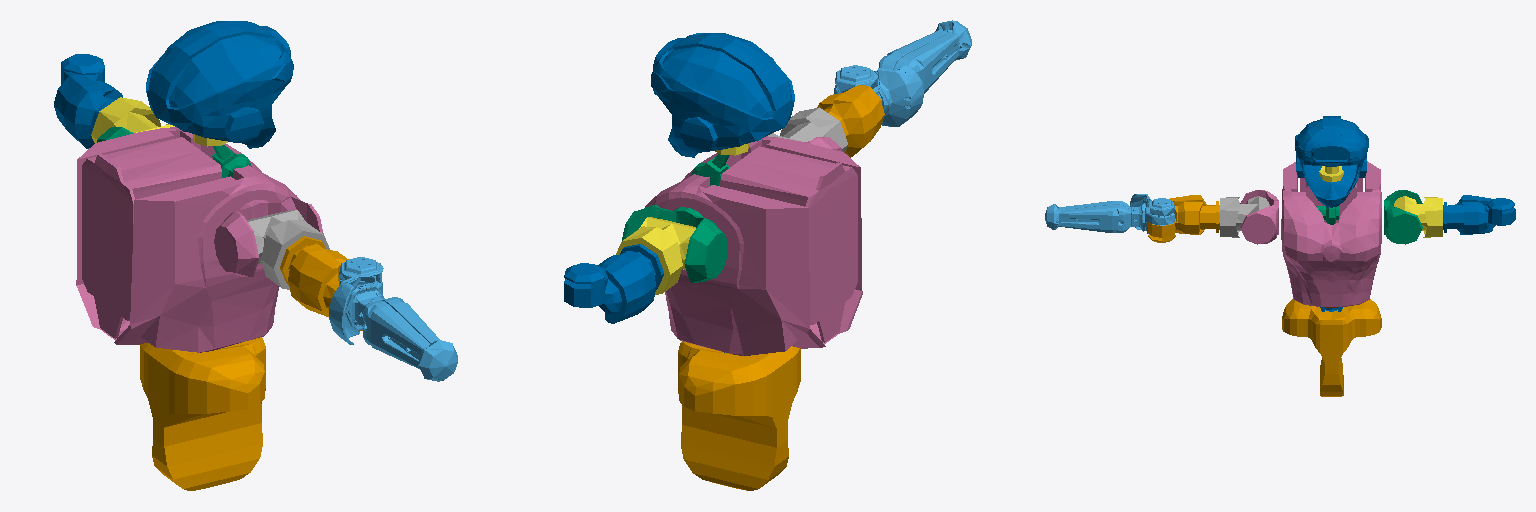
--- Render facts (derived) ---
The picture shows the robot from 3 angles, left to right: view 1: azimuth 30°, elevation 25°; view 2: azimuth 150°, elevation 25°; view 3: azimuth 270°, elevation 25°; orthographic projection.
Robot: valkyrie — 38 links, 37 joints (26 revolute, 11 fixed); root link pelvis; default pose: every joint at zero.
Visible links, largest first — view 1: torso, pelvis, upperNeckPitchLink, rightElbowPitchLink, leftShoulderYawLink, rightShoulderYawLink, rightShoulderPitchLink, rightShoulderRollLink, leftShoulderRollLink, lowerNeckPitchLink; view 2: torso, pelvis, upperNeckPitchLink, rightElbowPitchLink, leftShoulderYawLink, leftShoulderPitchLink, rightShoulderYawLink, leftShoulderRollLink, rightShoulderRollLink, lowerNeckPitchLink; view 3: torso, upperNeckPitchLink, pelvis, rightElbowPitchLink, leftShoulderYawLink, rightShoulderYawLink, leftShoulderPitchLink, rightShoulderPitchLink, rightShoulderRollLink, leftShoulderRollLink.
Link boxes in pixels (x1,y1,x2,y2): torso: (76,127,300,352); pelvis: (140,337,265,490); upperNeckPitchLink: (146,21,293,148); rightElbowPitchLink: (329,257,457,381); leftShoulderYawLink: (54,54,122,148); rightShoulderYawLink: (280,236,362,330); rightShoulderPitchLink: (214,197,323,276); rightShoulderRollLink: (247,210,329,289); leftShoulderRollLink: (91,97,174,142); lowerNeckPitchLink: (212,145,251,177); torso: (645,136,862,355); pelvis: (678,341,800,490); upperNeckPitchLink: (651,33,794,157); rightElbowPitchLink: (834,20,971,126); leftShoulderYawLink: (564,244,663,323); leftShoulderPitchLink: (622,205,727,282); rightShoulderYawLink: (817,85,884,157); leftShoulderRollLink: (616,217,695,294); rightShoulderRollLink: (768,107,847,152); lowerNeckPitchLink: (691,154,729,185); torso: (1281,161,1381,306); upperNeckPitchLink: (1295,116,1368,207); pelvis: (1282,298,1381,396); rightElbowPitchLink: (1045,194,1175,233); leftShoulderYawLink: (1443,195,1515,234); rightShoulderYawLink: (1148,195,1219,242); leftShoulderPitchLink: (1384,190,1422,244); rightShoulderPitchLink: (1240,190,1278,244); rightShoulderRollLink: (1220,196,1269,237); leftShoulderRollLink: (1393,196,1442,237).
Bounding box of the posed robot: 0.4375 × 1.61 × 1.04 m (x, y, z).
Meshes: 23 distinct files referenced, 14 mesh visuals loaded (13 Collada DAE, 1 OBJ); not drawn: 10 (reference not matched to a file when rendering), 1 (file found but could not be loaded).

robot.urdf — valkyrie:
<?xml version="1.0" ?>
<!-- =================================================================================== -->
<!-- |    This document was autogenerated by xacro from /kinematic_analysis/src/val_description/model/robots/valkyrie_B.urdf.xacro | -->
<!-- |    EDITING THIS FILE BY HAND IS NOT RECOMMENDED                                 | -->
<!-- =================================================================================== -->
<robot name="valkyrie">
  <!--roll-->
  <!-- Setting the property for the left and right forearm -->
  <!-- <xacro:property name="leftArmJ5SerialNumber" value="v_g_016" />
        <xacro:property name="leftForearmSerialNumber" value="v_h_005"/> -->
  <!-- <xacro:property name="rightArmJ5SerialNumber" value="v_g_012" />
        <xacro:property name="rightForearmSerialNumber" value="v_h_006"/> -->
  <link name="pelvis">
    <inertial>
      <mass value="8.22"/>
      <origin rpy="0 0 0" xyz="-0.00532 -0.003512 -0.0036"/>
      <inertia ixx="0.11866378" ixy="-0.000143482" ixz="0.003271293" iyy="0.097963425" iyz="0.002159545" izz="0.083854638"/>
    </inertial>
    <visual>
      <geometry>
        <mesh filename="package://val_description/model/meshes/pelvis/pelvis.dae"/>
      </geometry>
      <origin rpy="0.0 0.0 0.0" xyz="0.0 0.0 0.0"/>
    </visual>
    <collision>
      <geometry>
        <mesh filename="package://val_description/model/meshes/pelvis/pelvis.dae"/>
      </geometry>
      <origin rpy="0 0 0" xyz="0 0 0"/>
    </collision>
  </link>
  <link name="pelvisRearImu_Frame">
    <!-- Virtual Link -->
    <inertial>
      <mass value="1e-07"/>
      <origin rpy="0 0 0" xyz="0 0 0"/>
      <inertia ixx="3.3333333333333322e-22" ixy="0.0" ixz="0.0" iyy="3.3333333333333322e-22" iyz="0.0" izz="4.999999999999999e-22"/>
    </inertial>
  </link>
  <joint name="pelvisRearImu_Offset" type="fixed">
    <origin rpy="-3.14159 0.476467 -3.14159" xyz="-0.075844901 0.0 -0.111056426"/>
    <axis xyz="0 0 1"/>
    <parent link="pelvis"/>
    <child link="pelvisRearImu_Frame"/>
  </joint>
  <gazebo reference="pelvisRearImu_Offset">
    <implicitSpringDamper>1</implicitSpringDamper>
  </gazebo>
  <gazebo>
    <plugin filename="libgazebo_ros_imu.so" name="imu_plugin_ros">
      <alwaysOn>true</alwaysOn>
      <bodyName>pelvisRearImu_Frame</bodyName>
      <topicName>pelvisRearImu/imu</topicName>
      <serviceName>pelvisRearImu/imu_service</serviceName>
      <gaussianNoise>0.0</gaussianNoise>
      <updateRate>1000.0</updateRate>
    </plugin>
  </gazebo>
  <gazebo reference="pelvisRearImu_Frame">
    <sensor name="pelvisRearImu" type="imu">
      <imuTransform>-0.075844901 0.0 -0.111056426 -3.14159 0.476467 -3.14159</imuTransform>
      <always_on>true</always_on>
      <pose>0 0 0 0 0 0 </pose>
      <node name="/sensors/rearPelvisIMU"/>
      <api name="imu_3dm_gx4_15_sensor::Imu3DmGx415Sensor"/>
      <port name="/dev/ttyS4"/>
      <imu>
        <noise>
          <type>gaussian</type>
          <rate>
            <mean>0</mean>
            <stddev>0.0002</stddev>
            <bias_mean>7.5e-06</bias_mean>
            <bias_stddev>8e-07</bias_stddev>
          </rate>
          <accel>
            <mean>0</mean>
            <stddev>0.017</stddev>
            <bias_mean>0.1</bias_mean>
            <bias_stddev>0.001</bias_stddev>
          </accel>
        </noise>
      </imu>
    </sensor>
  </gazebo>
  <link name="pelvisMiddleImu_Frame">
    <!-- Virtual Link -->
    <inertial>
      <mass value="1e-07"/>
      <origin rpy="0 0 0" xyz="0 0 0"/>
      <inertia ixx="3.3333333333333322e-22" ixy="0.0" ixz="0.0" iyy="3.3333333333333322e-22" iyz="0.0" izz="4.999999999999999e-22"/>
    </inertial>
  </link>
  <joint name="pelvisMiddleImu_Offset" type="fixed">
    <origin rpy="3.14159 0.0 0.0" xyz="0.0 0.0 -0.10819638"/>
    <axis xyz="0 0 1"/>
    <parent link="pelvis"/>
    <child link="pelvisMiddleImu_Frame"/>
  </joint>
  <gazebo reference="pelvisMiddleImu_Offset">
    <implicitSpringDamper>1</implicitSpringDamper>
  </gazebo>
  <gazebo>
    <plugin filename="libgazebo_ros_imu.so" name="imu_plugin_ros">
      <alwaysOn>true</alwaysOn>
      <bodyName>pelvisMiddleImu_Frame</bodyName>
      <topicName>pelvisMiddleImu/imu</topicName>
      <serviceName>pelvisMiddleImu/imu_service</serviceName>
      <gaussianNoise>0.0</gaussianNoise>
      <updateRate>500.0</updateRate>
    </plugin>
  </gazebo>
  <gazebo reference="pelvisMiddleImu_Frame">
    <sensor name="pelvisMiddleImu" type="imu">
      <imuTransform>0.0 0.0 -0.10819638 3.14159 0.0 0.0</imuTransform>
      <always_on>true</always_on>
      <pose>0 0 0 0 0 0 </pose>
      <imu>
        <noise>
          <type>gaussian</type>
          <rate>
            <mean>0</mean>
            <stddev>0.0002</stddev>
            <bias_mean>7.5e-06</bias_mean>
            <bias_stddev>8e-07</bias_stddev>
          </rate>
          <accel>
            <mean>0</mean>
            <stddev>0.017</stddev>
            <bias_mean>0.1</bias_mean>
            <bias_stddev>0.001</bias_stddev>
          </accel>
        </noise>
      </imu>
    </sensor>
  </gazebo>
  <link name="zedm_mount">
    <!-- Virtual Link -->
    <inertial>
      <mass value="1e-07"/>
      <origin rpy="0 0 0" xyz="0 0 0"/>
      <inertia ixx="3.3333333333333322e-22" ixy="0.0" ixz="0.0" iyy="3.3333333333333322e-22" iyz="0.0" izz="4.999999999999999e-22"/>
    </inertial>
  </link>
  <joint name="zedm_head_root_joint" type="fixed">
    <origin rpy="0.0 0.1309 0.0" xyz="0.192184 0.0 -0.096498"/>
    <axis xyz="0 0 1"/>
    <parent link="upperNeckPitchLink"/>
    <child link="zedm_mount"/>
  </joint>
  <gazebo reference="zedm_head_root_joint">
    <implicitSpringDamper>1</implicitSpringDamper>
  </gazebo>
  <link name="torsoYawLink">
    <inertial>
      <mass value="0.5"/>
      <origin rpy="0 0 0" xyz="0.000000 0.000000 -0.010000"/>
      <inertia ixx="0.000608427" ixy="-1.172e-06" ixz="1.647e-06" iyy="0.000620328" iyz="-2.33e-07" izz="0.001078108"/>
    </inertial>
    <visual>
      <geometry>
        <mesh filename="package://val_description/model/meshes/torso/torsoyaw.dae"/>
      </geometry>
      <origin rpy="0.0 0.0 0.0" xyz="0.0 0.0 0.0"/>
    </visual>
    <collision>
      <geometry>
        <mesh filename="package://val_description/model/meshes/torso/torsoyaw.dae"/>
      </geometry>
      <origin rpy="0 0 0" xyz="0 0 0"/>
    </collision>
  </link>
  <link name="torsoPitchLink">
    <inertial>
      <mass value="0.1"/>
      <origin rpy="0 0 0" xyz="0.000000 0.000000  0.005000"/>
      <inertia ixx="3.032e-05" ixy="0.0" ixz="-1.145e-06" iyy="2.1274e-05" iyz="0.0" izz="2.8285e-05"/>
    </inertial>
    <visual>
      <geometry>
        <mesh filename="package://val_description/model/meshes/torso/torsopitch.dae"/>
      </geometry>
      <origin rpy="0.0 0.0 0.0" xyz="0.0 0.0 0.0"/>
    </visual>
    <collision>
      <geometry>
        <mesh filename="package://val_description/model/meshes/torso/torsopitch.dae"/>
      </geometry>
      <origin rpy="0 0 0" xyz="0 0 0"/>
    </collision>
  </link>
  <link name="torso">
    <inertial>
      <mass value="30.87"/>
      <origin rpy="0 0 0" xyz="-0.095548 -0.003337 0.243098"/>
      <inertia ixx="0.858969" ixy="9.9563e-05" ixz="0.061345211" iyy="0.99655" iyz="0.00181849" izz="0.764098"/>
    </inertial>
    <visual>
      <geometry>
        <mesh filename="package://val_description/model/meshes/torso/torso.dae"/>
      </geometry>
      <origin rpy="0.0 0.0 0.0" xyz="0.0 0.0 0.0"/>
    </visual>
    <collision>
      <geometry>
        <mesh filename="package://val_description/model/meshes/torso/torso.dae"/>
      </geometry>
      <origin rpy="0 0 0" xyz="0 0 0"/>
    </collision>
  </link>
  <joint name="torsoYaw" type="revolute">
    <origin rpy="0.0 0.0 0.0" xyz="0.0 0.0 0.0"/>
    <axis xyz="0 0 1"/>
    <parent link="pelvis"/>
    <child link="torsoYawLink"/>
    <limit effort="190" lower="-1.329" upper="1.181" velocity="5.89"/>
    <controller_gains Kd="0.0" Ki="0.0" Kp="0.0"/>
    <dynamics damping="0.1" friction="0.0"/>
  </joint>
  <gazebo reference="torsoYaw">
    <provideFeedback>1</provideFeedback>
    <implicitSpringDamper>1</implicitSpringDamper>
  </gazebo>
  <joint name="torsoPitch" type="revolute">
    <origin rpy="0.0 0.0 0.0" xyz="0.04191 0.0 0.0"/>
    <axis xyz="0 1 0"/>
    <parent link="torsoYawLink"/>
    <child link="torsoPitchLink"/>
    <limit effort="150" lower="-0.13" upper="0.666" velocity="9"/>
    <controller_gains Kd="0.0" Ki="0.0" Kp="0.0"/>
    <dynamics damping="0.1" friction="0.0"/>
  </joint>
  <gazebo reference="torsoPitch">
    <provideFeedback>1</provideFeedback>
    <implicitSpringDamper>1</implicitSpringDamper>
  </gazebo>
  <joint name="torsoRoll" type="revolute">
    <origin rpy="0.0 0.0 0.0" xyz="0.0 0.0 0.0203"/>
    <axis xyz="1 0 0"/>
    <parent link="torsoPitchLink"/>
    <child link="torso"/>
    <limit effort="150" lower="-0.23" upper="0.255" velocity="9"/>
    <controller_gains Kd="0.0" Ki="0.0" Kp="0.0"/>
    <dynamics damping="0.1" friction="0.0"/>
  </joint>
  <gazebo reference="torsoRoll">
    <provideFeedback>1</provideFeedback>
    <implicitSpringDamper>1</implicitSpringDamper>
  </gazebo>
  <transmission name="torsoYawTransmission">
    <type>transmission_interface/SimpleTransmission</type>
    <joint name="torsoYaw">
      <hardwareInterface>EffortJointInterface</hardwareInterface>
    </joint>
    <actuator name="torsoYaw">
      <node name="/pelvis/waist"/>
      <mechanicalReduction>1</mechanicalReduction>
      <api name="robot_hardware_interface/TurbodriverAPI"/>
    </actuator>
  </transmission>
  <transmission name="waistTransmission">
    <type>robot_transmission_interface::TorsoPushrodTransmissionLoader</type>
    <joint name="torsoPitch">
      <role>pitch</role>
      <hardwareInterface>EffortJointInterface</hardwareInterface>
    </joint>
    <joint name="torsoRoll">
      <role>roll</role>
      <hardwareInterface>EffortJointInterface</hardwareInterface>
    </joint>
    <actuator name="waistRightActuator">
      <node name="/trunk/right_actuator"/>
      <role>right</role>
      <mechanicalReduction>1</mechanicalReduction>
      <api name="robot_hardware_interface/TurbodriverAPI_linear_Renishaw"/>
    </actuator>
    <actuator name="waistLeftActuator">
      <node name="/trunk/left_actuator"/>
      <role>left</role>
      <mechanicalReduction>1</mechanicalReduction>
      <api name="robot_hardware_interface/TurbodriverAPI_linear_Renishaw"/>
    </actuator>
  </transmission>
  <link name="leftTorsoImu_Frame">
    <!-- Virtual Link -->
    <inertial>
      <mass value="1e-07"/>
      <origin rpy="0 0 0" xyz="0 0 0"/>
      <inertia ixx="3.3333333333333322e-22" ixy="0.0" ixz="0.0" iyy="3.3333333333333322e-22" iyz="0.0" izz="4.999999999999999e-22"/>
    </inertial>
  </link>
  <joint name="leftTorsoImu_Offset" type="fixed">
    <origin rpy="-1.5707 0.0 0.0" xyz="-0.0627634 0.134239 0.3630676"/>
    <axis xyz="0 0 1"/>
    <parent link="torso"/>
    <child link="leftTorsoImu_Frame"/>
  </joint>
  <gazebo reference="leftTorsoImu_Offset">
    <implicitSpringDamper>1</implicitSpringDamper>
  </gazebo>
  <gazebo>
    <plugin filename="libgazebo_ros_imu.so" name="imu_plugin_ros">
      <alwaysOn>true</alwaysOn>
      <bodyName>leftTorsoImu_Frame</bodyName>
      <topicName>leftTorsoImu/imu</topicName>
      <serviceName>leftTorsoImu/imu_service</serviceName>
      <gaussianNoise>0.0</gaussianNoise>
      <updateRate>1000.0</updateRate>
    </plugin>
  </gazebo>
  <gazebo reference="leftTorsoImu_Frame">
    <sensor name="leftTorsoImu" type="imu">
      <imuTransform>-0.0627634 0.134239 0.3630676 -1.5707 0.0 0.0</imuTransform>
      <always_on>true</always_on>
      <pose>0 0 0 0 0 0 </pose>
      <node name="/sensors/leftTorsoIMU"/>
      <api name="imu_3dm_gx4_15_sensor::Imu3DmGx415Sensor"/>
      <port name="/dev/ttyS5"/>
      <imu>
        <noise>
          <type>gaussian</type>
          <rate>
            <mean>0</mean>
            <stddev>0.0002</stddev>
            <bias_mean>7.5e-06</bias_mean>
            <bias_stddev>8e-07</bias_stddev>
          </rate>
          <accel>
            <mean>0</mean>
            <stddev>0.017</stddev>
            <bias_mean>0.1</bias_mean>
            <bias_stddev>0.001</bias_stddev>
          </accel>
        </noise>
      </imu>
    </sensor>
  </gazebo>
  <link name="rightHazardCamera_Frame">
    <!-- Virtual Link -->
    <inertial>
      <mass value="1e-07"/>
      <origin rpy="0 0 0" xyz="0 0 0"/>
      <inertia ixx="3.3333333333333322e-22" ixy="0.0" ixz="0.0" iyy="3.3333333333333322e-22" iyz="0.0" izz="4.999999999999999e-22"/>
    </inertial>
  </link>
  <gazebo reference="rightHazardCamera_Frame">
    <sensor name="rightHazardCamera" type="camera">
      <camera>
        <image>
          <width>1280</width>
          <height>1024</height>
          <format>R8G8B8</format>
        </image>
        <horizontal_fov>1.378</horizontal_fov>
        <clip>
          <near>0.1</near>
          <far>100</far>
        </clip>
      </camera>
      <update_rate>60</update_rate>
    </sensor>
  </gazebo>
  <joint name="rightHazardCamera_Offset" type="fixed">
    <origin rpy="1.57 0.0 1.57" xyz="0.0345 -0.0406 0.1135"/>
    <axis xyz="0 0 1"/>
    <parent link="torso"/>
    <child link="rightHazardCamera_Frame"/>
  </joint>
  <gazebo reference="rightHazardCamera_Offset">
    <implicitSpringDamper>1</implicitSpringDamper>
  </gazebo>
  <link name="leftHazardCamera_Frame">
    <!-- Virtual Link -->
    <inertial>
      <mass value="1e-07"/>
      <origin rpy="0 0 0" xyz="0 0 0"/>
      <inertia ixx="3.3333333333333322e-22" ixy="0.0" ixz="0.0" iyy="3.3333333333333322e-22" iyz="0.0" izz="4.999999999999999e-22"/>
    </inertial>
  </link>
  <gazebo reference="leftHazardCamera_Frame">
    <sensor name="leftHazardCamera" type="camera">
      <camera>
        <image>
          <width>1280</width>
          <height>1024</height>
          <format>R8G8B8</format>
        </image>
        <horizontal_fov>1.378</horizontal_fov>
        <clip>
          <near>0.1</near>
          <far>100</far>
        </clip>
      </camera>
      <update_rate>60</update_rate>
    </sensor>
  </gazebo>
  <joint name="leftHazardCamera_Offset" type="fixed">
    <origin rpy="1.57 0.0 1.57" xyz="0.0345 0.0406 0.1135"/>
    <axis xyz="0 0 1"/>
    <parent link="torso"/>
    <child link="leftHazardCamera_Frame"/>
  </joint>
  <gazebo reference="leftHazardCamera_Offset">
    <implicitSpringDamper>1</implicitSpringDamper>
  </gazebo>
  <link name="lowerNeckPitchLink">
    <inertial>
      <mass value="1.05"/>
      <origin rpy="0 0 0" xyz="-0.020000 0.000000  0.040000"/>
      <inertia ixx="0.001470716" ixy="-0.000126021" ixz="0.000632521" iyy="0.001851919" iyz="0.000243012" izz="0.000832117"/>
    </inertial>
    <visual>
      <geometry>
        <mesh filename="package://val_description/model/meshes/head/neckj1.dae"/>
      </geometry>
      <origin rpy="0.0 0.0 0.0" xyz="0.0 0.0 0.0"/>
    </visual>
    <collision>
      <geometry>
        <mesh filename="package://val_description/model/meshes/head/neckj1.dae"/>
      </geometry>
      <origin rpy="0 0 0" xyz="0 0 0"/>
    </collision>
  </link>
  <link name="neckYawLink">
    <inertial>
      <mass value="1.4"/>
      <origin rpy="0 0 0" xyz="-0.030000  -0.010000 0.150000"/>
      <inertia ixx="0.001997698" ixy="-0.000180062" ixz="0.000723677" iyy="0.002919928" iyz="0.000246467" izz="0.002119751"/>
    </inertial>
    <visual>
      <geometry>
        <mesh filename="package://val_description/model/meshes/head/neckj2.dae"/>
      </geometry>
      <origin rpy="0.0 0.0 0.0" xyz="0.0 0.0 0.0"/>
    </visual>
    <collision>
      <geometry>
        <mesh filename="package://val_description/model/meshes/head/neckj2.dae"/>
      </geometry>
      <origin rpy="0 0 0" xyz="0 0 0"/>
    </collision>
  </link>
  <link name="upperNeckPitchLink">
    <inertial>
      <mass value="3.89"/>
      <origin rpy="0 0 0" xyz="0.100912 0.005783 0.034787"/>
      <inertia ixx="0.039847525" ixy="-0.000470418" ixz="-0.002829842" iyy="0.041418564" iyz="-0.000782564" izz="0.036841236"/>
    </inertial>
    <visual>
      <geometry>
        <mesh filename="package://val_description/model/meshes/head/head_multisense_no_visor.dae"/>
      </geometry>
      <origin rpy="0.0 0.0 0.0" xyz="0.0 0.0 0.0"/>
    </visual>
    <collision>
      <geometry>
        <mesh filename="package://val_description/model/meshes/head/head_multisense_no_visor.dae"/>
      </geometry>
      <origin rpy="0 0 0" xyz="0 0 0"/>
    </collision>
  </link>
  <joint name="lowerNeckPitch" type="revolute">
    <origin rpy="0.0 0.0 0.0" xyz="0.0203518 0.0 0.33845"/>
    <axis xyz="0 1 0"/>
    <parent link="torso"/>
    <child link="lowerNeckPitchLink"/>
    <limit effort="26" lower="0" upper="1.162" velocity="5"/>
    <controller_gains Kd="3" Ki="3" Kp="50"/>
    <dynamics damping="0.1" friction="0.0"/>
  </joint>
  <gazebo reference="lowerNeckPitch">
    <provideFeedback>1</provideFeedback>
    <implicitSpringDamper>1</implicitSpringDamper>
  </gazebo>
  <joint name="neckYaw" type="revolute">
    <origin rpy="0.0 0.0 0.0" xyz="-0.051924 0.0 0.0"/>
    <axis xyz="0 0 1"/>
    <parent link="lowerNeckPitchLink"/>
    <child link="neckYawLink"/>
    <limit effort="26" lower="-1.04719755" upper="1.04719755" velocity="5"/>
    <controller_gains Kd="3" Ki="0.0" Kp="50"/>
    <dynamics damping="0.1" friction="0.0"/>
  </joint>
  <gazebo reference="neckYaw">
    <provideFeedback>1</provideFeedback>
    <implicitSpringDamper>1</implicitSpringDamper>
  </gazebo>
  <joint name="upperNeckPitch" type="revolute">
    <origin rpy="0.0 0.0 0.0" xyz="-0.06 0 0.195997"/>
    <axis xyz="0 1 0"/>
    <parent link="neckYawLink"/>
    <child link="upperNeckPitchLink"/>
    <limit effort="26" lower="-0.872" upper="0.0" velocity="5"/>
    <controller_gains Kd="3" Ki="0.0" Kp="50"/>
    <dynamics damping="0.1" friction="0.0"/>
  </joint>
  <gazebo reference="upperNeckPitch">
    <provideFeedback>1</provideFeedback>
    <implicitSpringDamper>1</implicitSpringDamper>
  </gazebo>
  <link name="multisense/head">
    <!-- Virtual Link -->
    <inertial>
      <mass value="1e-07"/>
      <origin rpy="0 0 0" xyz="0 0 0"/>
      <inertia ixx="3.3333333333333322e-22" ixy="0.0" ixz="0.0" iyy="3.3333333333333322e-22" iyz="0.0" izz="4.999999999999999e-22"/>
    </inertial>
  </link>
  <joint name="multisense_head_root_joint" type="fixed">
    <origin rpy="-3.14159 0.130899694 0.0" xyz="0.183585961 0.0 0.075353826"/>
    <axis xyz="0 0 1"/>
    <parent link="upperNeckPitchLink"/>
    <child link="multisense/head"/>
  </joint>
  <gazebo reference="multisense_head_root_joint">
    <implicitSpringDamper>1</implicitSpringDamper>
  </gazebo>
  <transmission name="lowerNeckPitchTransmission">
    <type>transmission_interface/SimpleTransmission</type>
    <joint name="lowerNeckPitch">
      <hardwareInterface>PositionJointInterface</hardwareInterface>
    </joint>
    <actuator name="lowerNeckPitch">
      <node name="/neck/j1"/>
      <mechanicalReduction>1</mechanicalReduction>
      <api name="robot_hardware_interface/TurbodriverAPI"/>
    </actuator>
  </transmission>
  <transmission name="neckYawTransmission">
    <type>transmission_interface/SimpleTransmission</type>
    <joint name="neckYaw">
      <hardwareInterface>PositionJointInterface</hardwareInterface>
    </joint>
    <actuator name="neckYaw">
      <node name="/neck/j2"/>
      <mechanicalReduction>1</mechanicalReduction>
      <api name="robot_hardware_interface/TurbodriverAPI"/>
    </actuator>
  </transmission>
  <transmission name="upperNeckPitchTransmission">
    <type>transmission_interface/SimpleTransmission</type>
    <joint name="upperNeckPitch">
      <hardwareInterface>PositionJointInterface</hardwareInterface>
    </joint>
    <actuator name="upperNeckPitch">
      <node name="/neck/j3"/>
      <mechanicalReduction>1</mechanicalReduction>
      <api name="robot_hardware_interface/TurbodriverAPI"/>
    </actuator>
  </transmission>
  <link name="rightHipYawLink">
    <inertial>
      <mass value="2.39"/>
      <origin rpy="0 0 0" xyz="0.02176 0.00131 0.03867"/>
      <inertia ixx="0.017260978" ixy="0.0" ixz="0.0" iyy="0.014866198" iyz="0.0" izz="0.011238178"/>
    </inertial>
    <visual>
      <geometry>
        <mesh filename="package://val_description/model/meshes/legs/lj1_right.dae"/>
      </geometry>
      <origin rpy="0.0 0.0 0.0" xyz="0.0 0.0 0.0"/>
    </visual>
    <collision>
      <geometry>
        <mesh filename="package://val_description/model/meshes/legs/lj1_right.dae"/>
      </geometry>
      <origin rpy="0 0 0" xyz="0 0 0"/>
    </collision>
  </link>
  <link name="rightHipRollLink">
    <inertial>
      <mass value="3.665"/>
      <origin rpy="0 0 0" xyz="0.012959 -0.00755 -0.015950"/>
      <inertia ixx="0.005978962" ixy="0.000234823" ixz="0.000553962" iyy="0.009372646" iyz="-0.000778956" izz="0.008193117"/>
    </inertial>
  </link>
  <link name="rightHipPitchLink">
    <inertial>
      <mass value="10.2"/>
      <origin rpy="0 0 0" xyz="0.016691 -0.091397 -0.207875"/>
      <inertia ixx="0.24083413" ixy="-3.5915e-05" ixz="0.003699383" iyy="0.25689705" iyz="0.001333005" izz="0.023276352"/>
    </inertial>
    <visual>
      <geometry>
        <mesh filename="package://val_description/model/meshes/legs/lj3_right.dae"/>
      </geometry>
      <origin rpy="0.0 0.0 0.0" xyz="0.0 0.0 0.0"/>
    </visual>
    <collision>
      <geometry>
        <mesh filename="package://val_description/model/meshes/legs/lj3_right.dae"/>
      </geometry>
      <origin rpy="0 0 0" xyz="0 0 0"/>
    </collision>
  </link>
  <link name="rightKneePitchLink">
    <inertial>
      <mass value="6.2"/>
      <origin rpy="0 0 0" xyz="-0.022183  0.001703  -0.189418"/>
      <inertia ixx="0.086935683" ixy="9.929e-05" ixz="0.000573207" iyy="0.091584066" iyz="0.000313745" izz="0.014017272"/>
    </inertial>
    <visual>
      <geometry>
        <mesh filename="package://val_description/model/meshes/legs/lj4_right.dae"/>
      </geometry>
      <origin rpy="0.0 0.0 0.0" xyz="0.0 0.0 0.0"/>
    </visual>
    <collision>
      <geometry>
        <mesh filename="package://val_description/model/meshes/legs/lj4_right.dae"/>
      </geometry>
      <origin rpy="0 0 0" xyz="0 0 0"/>
    </collision>
  </link>
  <link name="rightAnklePitchLink">
    <inertial>
      <mass value="0.03"/>
      <origin rpy="0 0 0" xyz="0.0 0.0 0.0"/>
      <inertia ixx="4.377e-06" ixy="0.0" ixz="0.0" iyy="4.322e-06" iyz="0.0" izz="7.015e-06"/>
    </inertial>
    <visual>
      <geometry>
        <mesh filename="package://val_description/model/meshes/legs/lj5.dae"/>
      </geometry>
      <origin rpy="0.0 0.0 0.0" xyz="0.0 0.0 0.0"/>
    </visual>
    <collision>
      <geometry>
        <mesh filename="package://val_description/model/meshes/legs/lj5.dae"/>
      </geometry>
      <origin rpy="0 0 0" xyz="0 0 0"/>
    </collision>
  </link>
  <link name="rightFoot">
    <inertial>
      <mass value="2.27"/>
      <origin rpy="0 0 0" xyz="0.037702  0.005161  -0.047634"/>
      <inertia ixx="0.00623936" ixy="0.000217174" ixz="0.001340587" iyy="0.017786991" iyz="-0.000187749" izz="0.020774433"/>
    </inertial>
    <visual>
      <geometry>
        <mesh filename="package://val_description/model/meshes/legs/foot.dae"/>
      </geometry>
      <origin rpy="0 0 0" xyz="0 0 0"/>
    </visual>
    <collision>
      <geometry>
        <box size="0.27 0.16 0.064"/>
      </geometry>
      <origin rpy="0.0 0.0 0.0" xyz="0.045 0.0 -0.056"/>
    </collision>
  </link>
  <!-- foot contact parameters copied from atlas_description in drcsim -->
  <gazebo reference="rightFoot">
    <!-- kp and kd for rubber -->
    <kp>1000000.0</kp>
    <kd>100.0</kd>
    <mu1>1.5</mu1>
    <mu2>1.5</mu2>
    <fdir1>1 0 0</fdir1>
    <maxVel>1.0</maxVel>
    <minDepth>0.00</minDepth>
  </gazebo>
  <joint name="rightHipYaw" type="revolute">
    <origin rpy="0.0 0.0 0.0" xyz="0.0 -0.1016 -0.1853"/>
    <axis xyz="0 0 1"/>
    <parent link="pelvis"/>
    <child link="rightHipYawLink"/>
    <limit effort="190" lower="-1.10" upper="0.4141" velocity="5.89"/>
    <controller_gains Kd="0.0" Ki="0.0" Kp="0.0"/>
    <dynamics damping="0.1" friction="0.0"/>
  </joint>
  <gazebo reference="rightHipYaw">
    <provideFeedback>1</provideFeedback>
    <implicitSpringDamper>1</implicitSpringDamper>
  </gazebo>
  <joint name="rightHipRoll" type="revolute">
    <origin rpy="0.0 0.0 0.0" xyz="0.0 0.0 0.0"/>
    <axis xyz="1 0 0"/>
    <parent link="rightHipYawLink"/>
    <child link="rightHipRollLink"/>
    <limit effort="350" lower="-0.5515" upper="0.467" velocity="7"/>
    <controller_gains Kd="0.0" Ki="0.0" Kp="0.0"/>
    <dynamics damping="0.1" friction="0.0"/>
  </joint>
  <gazebo reference="rightHipRoll">
    <provideFeedback>1</provideFeedback>
    <implicitSpringDamper>1</implicitSpringDamper>
  </gazebo>
  <joint name="rightHipPitch" type="revolute">
    <origin rpy="0.0 0.0 0.0" xyz="0.0 0.0 -0.0609"/>
    <axis xyz="0 1 0"/>
    <parent link="rightHipRollLink"/>
    <child link="rightHipPitchLink"/>
    <limit effort="350" lower="-2.42" upper="1.619" velocity="6.11"/>
    <controller_gains Kd="0.0" Ki="0.0" Kp="0.0"/>
    <dynamics damping="0.1" friction="0.0"/>
  </joint>
  <gazebo reference="rightHipPitch">
    <provideFeedback>1</provideFeedback>
    <implicitSpringDamper>1</implicitSpringDamper>
  </gazebo>
  <joint name="rightKneePitch" type="revolute">
    <origin rpy="0.0 0.0 0.0" xyz="0.000112225 -0.0361046 -0.430959"/>
    <axis xyz="0 1 0"/>
    <parent link="rightHipPitchLink"/>
    <child link="rightKneePitchLink"/>
    <limit effort="350" lower="-0.083" upper="2.057" velocity="6.11"/>
    <controller_gains Kd="0.0" Ki="0.0" Kp="0.0"/>
    <dynamics damping="0.1" friction="0.0"/>
  </joint>
  <gazebo reference="rightKneePitch">
    <provideFeedback>1</provideFeedback>
    <implicitSpringDamper>1</implicitSpringDamper>
  </gazebo>
  <joint name="rightAnklePitch" type="revolute">
    <origin rpy="0.0 0.0 0.0" xyz="-0.0102381 0.0 -0.40627"/>
    <axis xyz="0 1 0"/>
    <parent link="rightKneePitchLink"/>
    <child link="rightAnklePitchLink"/>
    <limit effort="205" lower="-0.8644" upper="0.875" velocity="11"/>
    <controller_gains Kd="0.0" Ki="0.0" Kp="0.0"/>
    <dynamics damping="0.1" friction="0.0"/>
  </joint>
  <gazebo reference="rightAnklePitch">
    <provideFeedback>1</provideFeedback>
    <implicitSpringDamper>1</implicitSpringDamper>
  </gazebo>
  <joint name="rightAnkleRoll" type="revolute">
    <origin rpy="0.0 0.0 0.0" xyz="0.0101259 0.0 0.0"/>
    <axis xyz="1 0 0"/>
    <parent link="rightAnklePitchLink"/>
    <child link="rightFoot"/>
    <limit effort="205" lower="-0.349" upper="0.348" velocity="11"/>
    <controller_gains Kd="0.0" Ki="0.0" Kp="0.0"/>
    <dynamics damping="0.3" friction="0.0"/>
  </joint>
  <gazebo reference="rightAnkleRoll">
    <provideFeedback>1</provideFeedback>
    <implicitSpringDamper>1</implicitSpringDamper>
  </gazebo>
  <link name="rightCOP_Frame">
    <inertial>
      <mass value="0.1"/>
      <origin rpy="0 0 0" xyz="0 0 0"/>
      <inertia ixx="8.333333333333336e-05" ixy="0.0" ixz="0.0" iyy="8.333333333333336e-05" iyz="0.0" izz="0.00012500000000000003"/>
    </inertial>
  </link>
  <joint name="rightCOP_Offset" type="fixed">
    <origin rpy="0.0 0.0 0.0" xyz="0.0189 0.0 -0.0783"/>
    <axis xyz="0 0 1"/>
    <parent link="rightFoot"/>
    <child link="rightCOP_Frame"/>
  </joint>
  <gazebo reference="rightCOP_Offset">
    <implicitSpringDamper>1</implicitSpringDamper>
  </gazebo>
  <link name="rightFootSixAxis_Frame">
    <!-- Virtual Link -->
    <inertial>
      <mass value="1e-07"/>
      <origin rpy="0 0 0" xyz="0 0 0"/>
      <inertia ixx="3.3333333333333322e-22" ixy="0.0" ixz="0.0" iyy="3.3333333333333322e-22" iyz="0.0" izz="4.999999999999999e-22"/>
    </inertial>
  </link>
  <joint name="rightFootSixAxis_Offset" type="fixed">
    <origin rpy="3.14 0.0 0.0" xyz="0.0215646 0.0 -0.051054"/>
    <axis xyz="0 0 1"/>
    <parent link="rightFoot"/>
    <child link="rightFootSixAxis_Frame"/>
  </joint>
  <gazebo reference="rightFootSixAxis_Offset">
    <implicitSpringDamper>1</implicitSpringDamper>
  </gazebo>
  <gazebo reference="rightAnkleRoll">
    <sensor name="rightFootSixAxis" type="force_torque">
      <pose>0.0215646 0.0 -0.051054 3.14 0.0 0.0</pose>
      <sensor_number id="FT16592"/>
      <node id="/right_leg/ankle/left_actuator"/>
      <api name="ati_sensor_interface::ATISensorInterface"/>
      <always_on>true</always_on>
      <update_rate>500.0</update_rate>
      <force_torque>
        <frame>sensor</frame>
        <measure_direction>parent_to_child</measure_direction>
      </force_torque>
    </sensor>
  </gazebo>
  <transmission name="rightHipYawTransmission">
    <type>transmission_interface/SimpleTransmission</type>
    <joint name="rightHipYaw">
      <hardwareInterface>EffortJointInterface</hardwareInterface>
    </joint>
    <actuator name="rightHipYaw">
      <node name="/pelvis/right_leg_j1"/>
      <mechanicalReduction>1</mechanicalReduction>
      <api name="robot_hardware_interface/TurbodriverAPI"/>
    </actuator>
  </transmission>
  <transmission name="rightHipRollTransmission">
    <type>transmission_interface/SimpleTransmission</type>
    <joint name="rightHipRoll">
      <hardwareInterface>EffortJointInterface</hardwareInterface>
    </joint>
    <actuator name="rightHipRoll">
      <node name="/right_leg/j2"/>
      <mechanicalReduction>1</mechanicalReduction>
      <api name="robot_hardware_interface/TurbodriverAPI"/>
    </actuator>
  </transmission>
  <transmission name="rightHipPitchTransmission">
    <type>transmission_interface/SimpleTransmission</type>
    <joint name="rightHipPitch">
      <hardwareInterface>EffortJointInterface</hardwareInterface>
    </joint>
    <actuator name="rightHipPitch">
      <node name="/right_leg/j3"/>
      <mechanicalReduction>1</mechanicalReduction>
      <api name="robot_hardware_interface/TurbodriverAPI"/>
    </actuator>
  </transmission>
  <transmission name="rightKneePitchTransmission">
    <type>transmission_interface/SimpleTransmission</type>
    <joint name="rightKneePitch">
      <hardwareInterface>EffortJointInterface</hardwareInterface>
    </joint>
    <actuator name="rightKneePitch">
      <node name="/right_leg/j4"/>
      <mechanicalReduction>1</mechanicalReduction>
      <api name="robot_hardware_interface/TurbodriverAPI"/>
    </actuator>
  </transmission>
  <transmission name="rightAnkleTransmission">
    <type>robot_transmission_interface::AnklePushrodTransmissionLoader</type>
    <joint name="rightAnklePitch">
      <role>pitch</role>
      <hardwareInterface>EffortJointInterface</hardwareInterface>
    </joint>
    <joint name="rightAnkleRoll">
      <role>roll</role>
      <hardwareInterface>EffortJointInterface</hardwareInterface>
    </joint>
    <actuator name="rightAnkleRightActuator">
      <node name="/right_leg/ankle/right_actuator"/>
      <role>right</role>
      <mechanicalReduction>1</mechanicalReduction>
      <api name="robot_hardware_interface/TurbodriverAPI_linear_futek"/>
    </actuator>
    <actuator name="rightAnkleLeftActuator">
      <node name="/right_leg/ankle/left_actuator"/>
      <role>left</role>
      <mechanicalReduction>1</mechanicalReduction>
      <api name="robot_hardware_interface/TurbodriverAPI_linear_futek"/>
    </actuator>
  </transmission>
  <link name="leftHipYawLink">
    <inertial>
      <mass value="2.39"/>
      <origin rpy="0 0 0" xyz="0.02176 -0.00131 0.03867"/>
      <inertia ixx="0.017260978" ixy="0.0" ixz="0.0" iyy="0.014866198" iyz="0.0" izz="0.011238178"/>
    </inertial>
    <visual>
      <geometry>
        <mesh filename="package://val_description/model/meshes/legs/lj1_left.dae"/>
      </geometry>
      <origin rpy="0.0 0.0 0.0" xyz="0.0 0.0 0.0"/>
    </visual>
    <collision>
      <geometry>
        <mesh filename="package://val_description/model/meshes/legs/lj1_left.dae"/>
      </geometry>
      <origin rpy="0 0 0" xyz="0 0 0"/>
    </collision>
  </link>
  <link name="leftHipRollLink">
    <inertial>
      <mass value="3.665"/>
      <origin rpy="0 0 0" xyz="0.012959 0.00755 -0.015950"/>
      <inertia ixx="0.005978962" ixy="-0.000234823" ixz="0.000553962" iyy="0.009372646" iyz="0.000778956" izz="0.008193117"/>
    </inertial>
  </link>
  <link name="leftHipPitchLink">
    <inertial>
      <mass value="10.2"/>
      <origin rpy="0 0 0" xyz="0.016691 0.091397 -0.207875"/>
      <inertia ixx="0.24083413" ixy="3.5915e-05" ixz="0.003699383" iyy="0.25689705" iyz="-0.001333005" izz="0.023276352"/>
    </inertial>
    <visual>
      <geometry>
        <mesh filename="package://val_description/model/meshes/legs/lj3_left.dae"/>
      </geometry>
      <origin rpy="0.0 0.0 0.0" xyz="0.0 0.0 0.0"/>
    </visual>
    <collision>
      <geometry>
        <mesh filename="package://val_description/model/meshes/legs/lj3_left.dae"/>
      </geometry>
      <origin rpy="0 0 0" xyz="0 0 0"/>
    </collision>
  </link>
  <link name="leftKneePitchLink">
    <inertial>
      <mass value="6.2"/>
      <origin rpy="0 0 0" xyz="-0.022183  0.001703  -0.189418"/>
      <inertia ixx="0.086935683" ixy="9.929e-05" ixz="0.000573207" iyy="0.091584066" iyz="0.000313745" izz="0.014017272"/>
    </inertial>
    <visual>
      <geometry>
        <mesh filename="package://val_description/model/meshes/legs/lj4_left.dae"/>
      </geometry>
      <origin rpy="0.0 0.0 0.0" xyz="0.0 0.0 0.0"/>
    </visual>
    <collision>
      <geometry>
        <mesh filename="package://val_description/model/meshes/legs/lj4_left.dae"/>
      </geometry>
      <origin rpy="0 0 0" xyz="0 0 0"/>
    </collision>
  </link>
  <link name="leftAnklePitchLink">
    <inertial>
      <mass value="0.03"/>
      <origin rpy="0 0 0" xyz="0.0 0.0 0.0"/>
      <inertia ixx="4.377e-06" ixy="0.0" ixz="0.0" iyy="4.322e-06" iyz="0.0" izz="7.015e-06"/>
    </inertial>
    <visual>
      <geometry>
        <mesh filename="package://val_description/model/meshes/legs/lj5.dae"/>
      </geometry>
      <origin rpy="0.0 0.0 0.0" xyz="0.0 0.0 0.0"/>
    </visual>
    <collision>
      <geometry>
        <mesh filename="package://val_description/model/meshes/legs/lj5.dae"/>
      </geometry>
      <origin rpy="0 0 0" xyz="0 0 0"/>
    </collision>
  </link>
  <link name="leftFoot">
    <inertial>
      <mass value="2.27"/>
      <origin rpy="0 0 0" xyz="0.037702  0.005161  -0.047634"/>
      <inertia ixx="0.00623936" ixy="0.000217174" ixz="0.001340587" iyy="0.017786991" iyz="-0.000187749" izz="0.020774433"/>
    </inertial>
    <visual>
      <geometry>
        <mesh filename="package://val_description/model/meshes/legs/foot.dae"/>
      </geometry>
      <origin rpy="0 0 0" xyz="0 0 0"/>
    </visual>
    <collision>
      <geometry>
        <box size="0.27 0.16 0.064"/>
      </geometry>
      <origin rpy="0.0 0.0 0.0" xyz="0.045 0.0 -0.056"/>
    </collision>
  </link>
  <!-- foot contact parameters copied from atlas_description in drcsim -->
  <gazebo reference="leftFoot">
    <!-- kp and kd for rubber -->
    <kp>1000000.0</kp>
    <kd>100.0</kd>
    <mu1>1.5</mu1>
    <mu2>1.5</mu2>
    <fdir1>1 0 0</fdir1>
    <maxVel>1.0</maxVel>
    <minDepth>0.00</minDepth>
  </gazebo>
  <joint name="leftHipYaw" type="revolute">
    <origin rpy="0.0 0.0 0.0" xyz="0.0 0.1016 -0.1853"/>
    <axis xyz="0 0 1"/>
    <parent link="pelvis"/>
    <child link="leftHipYawLink"/>
    <limit effort="190" lower="-0.4141" upper="1.10" velocity="5.89"/>
    <controller_gains Kd="0.0" Ki="0.0" Kp="0.0"/>
    <dynamics damping="0.1" friction="0.0"/>
  </joint>
  <gazebo reference="leftHipYaw">
    <provideFeedback>1</provideFeedback>
    <implicitSpringDamper>1</implicitSpringDamper>
  </gazebo>
  <joint name="leftHipRoll" type="revolute">
    <origin rpy="0.0 0.0 0.0" xyz="0.0 0.0 0.0"/>
    <axis xyz="1 0 0"/>
    <parent link="leftHipYawLink"/>
    <child link="leftHipRollLink"/>
    <limit effort="350" lower="-0.467" upper="0.5515" velocity="7"/>
    <controller_gains Kd="0.0" Ki="0.0" Kp="0.0"/>
    <dynamics damping="0.1" friction="0.0"/>
  </joint>
  <gazebo reference="leftHipRoll">
    <provideFeedback>1</provideFeedback>
    <implicitSpringDamper>1</implicitSpringDamper>
  </gazebo>
  <joint name="leftHipPitch" type="revolute">
    <origin rpy="0.0 0.0 0.0" xyz="0.0 0.0 -0.0609"/>
    <axis xyz="0 1 0"/>
    <parent link="leftHipRollLink"/>
    <child link="leftHipPitchLink"/>
    <limit effort="350" lower="-2.42" upper="1.619" velocity="6.11"/>
    <controller_gains Kd="0.0" Ki="0.0" Kp="0.0"/>
    <dynamics damping="0.1" friction="0.0"/>
  </joint>
  <gazebo reference="leftHipPitch">
    <provideFeedback>1</provideFeedback>
    <implicitSpringDamper>1</implicitSpringDamper>
  </gazebo>
  <joint name="leftKneePitch" type="revolute">
    <origin rpy="0.0 0.0 0.0" xyz="0.000112225 0.0361046 -0.430959"/>
    <axis xyz="0 1 0"/>
    <parent link="leftHipPitchLink"/>
    <child link="leftKneePitchLink"/>
    <limit effort="350" lower="-0.083" upper="2.057" velocity="6.11"/>
    <controller_gains Kd="0.0" Ki="0.0" Kp="0.0"/>
    <dynamics damping="0.1" friction="0.0"/>
  </joint>
  <gazebo reference="leftKneePitch">
    <provideFeedback>1</provideFeedback>
    <implicitSpringDamper>1</implicitSpringDamper>
  </gazebo>
  <joint name="leftAnklePitch" type="revolute">
    <origin rpy="0.0 0.0 0.0" xyz="-0.0102381 0.0 -0.40627"/>
    <axis xyz="0 1 0"/>
    <parent link="leftKneePitchLink"/>
    <child link="leftAnklePitchLink"/>
    <limit effort="205" lower="-0.8644" upper="0.875" velocity="11"/>
    <controller_gains Kd="0.0" Ki="0.0" Kp="0.0"/>
    <dynamics damping="0.1" friction="0.0"/>
  </joint>
  <gazebo reference="leftAnklePitch">
    <provideFeedback>1</provideFeedback>
    <implicitSpringDamper>1</implicitSpringDamper>
  </gazebo>
  <joint name="leftAnkleRoll" type="revolute">
    <origin rpy="0.0 0.0 0.0" xyz="0.0101259 0.0 0.0"/>
    <axis xyz="1 0 0"/>
    <parent link="leftAnklePitchLink"/>
    <child link="leftFoot"/>
    <limit effort="205" lower="-0.349" upper="0.348" velocity="11"/>
    <controller_gains Kd="0.0" Ki="0.0" Kp="0.0"/>
    <dynamics damping="0.3" friction="0.0"/>
  </joint>
  <gazebo reference="leftAnkleRoll">
    <provideFeedback>1</provideFeedback>
    <implicitSpringDamper>1</implicitSpringDamper>
  </gazebo>
  <link name="leftCOP_Frame">
    <inertial>
      <mass value="0.1"/>
      <origin rpy="0 0 0" xyz="0 0 0"/>
      <inertia ixx="8.333333333333336e-05" ixy="0.0" ixz="0.0" iyy="8.333333333333336e-05" iyz="0.0" izz="0.00012500000000000003"/>
    </inertial>
  </link>
  <joint name="leftCOP_Offset" type="fixed">
    <origin rpy="0.0 0.0 0.0" xyz="0.0189 0.0 -0.0783"/>
    <axis xyz="0 0 1"/>
    <parent link="leftFoot"/>
    <child link="leftCOP_Frame"/>
  </joint>
  <gazebo reference="leftCOP_Offset">
    <implicitSpringDamper>1</implicitSpringDamper>
  </gazebo>
  <link name="leftFootSixAxis_Frame">
    <!-- Virtual Link -->
    <inertial>
      <mass value="1e-07"/>
      <origin rpy="0 0 0" xyz="0 0 0"/>
      <inertia ixx="3.3333333333333322e-22" ixy="0.0" ixz="0.0" iyy="3.3333333333333322e-22" iyz="0.0" izz="4.999999999999999e-22"/>
    </inertial>
  </link>
  <joint name="leftFootSixAxis_Offset" type="fixed">
    <origin rpy="3.14 0.0 0.0" xyz="0.0215646 0.0 -0.051054"/>
    <axis xyz="0 0 1"/>
    <parent link="leftFoot"/>
    <child link="leftFootSixAxis_Frame"/>
  </joint>
  <gazebo reference="leftFootSixAxis_Offset">
    <implicitSpringDamper>1</implicitSpringDamper>
  </gazebo>
  <gazebo reference="leftAnkleRoll">
    <sensor name="leftFootSixAxis" type="force_torque">
      <pose>0.0215646 0.0 -0.051054 3.14 0.0 0.0</pose>
      <sensor_number id="FT16594"/>
      <node id="/left_leg/ankle/left_actuator"/>
      <api name="ati_sensor_interface::ATISensorInterface"/>
      <always_on>true</always_on>
      <update_rate>500.0</update_rate>
      <force_torque>
        <frame>sensor</frame>
        <measure_direction>parent_to_child</measure_direction>
      </force_torque>
    </sensor>
  </gazebo>
  <transmission name="leftHipYawTransmission">
    <type>transmission_interface/SimpleTransmission</type>
    <joint name="leftHipYaw">
      <hardwareInterface>EffortJointInterface</hardwareInterface>
    </joint>
    <actuator name="leftHipYaw">
      <node name="/pelvis/left_leg_j1"/>
      <mechanicalReduction>1</mechanicalReduction>
      <api name="robot_hardware_interface/TurbodriverAPI"/>
    </actuator>
  </transmission>
  <transmission name="leftHipRollTransmission">
    <type>transmission_interface/SimpleTransmission</type>
    <joint name="leftHipRoll">
      <hardwareInterface>EffortJointInterface</hardwareInterface>
    </joint>
    <actuator name="leftHipRoll">
      <node name="/left_leg/j2"/>
      <mechanicalReduction>1</mechanicalReduction>
      <api name="robot_hardware_interface/TurbodriverAPI"/>
    </actuator>
  </transmission>
  <transmission name="leftHipPitchTransmission">
    <type>transmission_interface/SimpleTransmission</type>
    <joint name="leftHipPitch">
      <hardwareInterface>EffortJointInterface</hardwareInterface>
    </joint>
    <actuator name="leftHipPitch">
      <node name="/left_leg/j3"/>
      <mechanicalReduction>1</mechanicalReduction>
      <api name="robot_hardware_interface/TurbodriverAPI"/>
    </actuator>
  </transmission>
  <transmission name="leftKneePitchTransmission">
    <type>transmission_interface/SimpleTransmission</type>
    <joint name="leftKneePitch">
      <hardwareInterface>EffortJointInterface</hardwareInterface>
    </joint>
    <actuator name="leftKneePitch">
      <node name="/left_leg/j4"/>
      <mechanicalReduction>1</mechanicalReduction>
      <api name="robot_hardware_interface/TurbodriverAPI"/>
    </actuator>
  </transmission>
  <transmission name="leftAnkleTransmission">
    <type>robot_transmission_interface::AnklePushrodTransmissionLoader</type>
    <joint name="leftAnklePitch">
      <role>pitch</role>
      <hardwareInterface>EffortJointInterface</hardwareInterface>
    </joint>
    <joint name="leftAnkleRoll">
      <role>roll</role>
      <hardwareInterface>EffortJointInterface</hardwareInterface>
    </joint>
    <actuator name="leftAnkleRightActuator">
      <node name="/left_leg/ankle/right_actuator"/>
      <role>right</role>
      <mechanicalReduction>1</mechanicalReduction>
      <api name="robot_hardware_interface/TurbodriverAPI_linear_futek"/>
    </actuator>
    <actuator name="leftAnkleLeftActuator">
      <node name="/left_leg/ankle/left_actuator"/>
      <role>left</role>
      <mechanicalReduction>1</mechanicalReduction>
      <api name="robot_hardware_interface/TurbodriverAPI_linear_futek"/>
    </actuator>
  </transmission>
  <link name="rightShoulderPitchLink">
    <inertial>
      <mass value="2.65"/>
      <origin rpy="0 0 0" xyz="0.012 -0.251 0.000000"/>
      <inertia ixx="0.013718167" ixy="0.0" ixz="0.0" iyy="0.010502833" iyz="0.0" izz="0.014806433"/>
    </inertial>
    <visual>
      <geometry>
        <mesh filename="package://val_description/model/meshes/arms/aj1_right.dae"/>
      </geometry>
      <origin rpy="0.0 0.0 0.0" xyz="0.0 0.0 0.0"/>
    </visual>
    <collision>
      <geometry>
        <mesh filename="package://val_description/model/meshes/arms/aj1_right.dae"/>
      </geometry>
      <origin rpy="0 0 0" xyz="0 0 0"/>
    </collision>
  </link>
  <link name="rightShoulderRollLink">
    <inertial>
      <mass value="3.97"/>
      <origin rpy="0 0 0" xyz="0.008513 -0.02068 -0.001088"/>
      <inertia ixx="0.014598842" ixy="-0.00066764" ixz="3.629e-05" iyy="0.006452136" iyz="8.283e-05" izz="0.016848319"/>
    </inertial>
    <visual>
      <geometry>
        <mesh filename="package://val_description/model/meshes/arms/aj2_right.dae"/>
      </geometry>
      <origin rpy="0.0 0.0 0.0" xyz="0.0 0.0 0.0"/>
    </visual>
    <collision>
      <geometry>
        <mesh filename="package://val_description/model/meshes/arms/aj2_right.dae"/>
      </geometry>
      <origin rpy="0 0 0" xyz="0 0 0"/>
    </collision>
  </link>
  <link name="rightShoulderYawLink">
    <inertial>
      <mass value="3.085"/>
      <origin rpy="0 0 0" xyz="-0.004304 -0.209832 -0.007295"/>
      <inertia ixx="0.039355177" ixy="0.007827077" ixz="0.000753947" iyy="0.004905765" iyz="-0.002723873" izz="0.041879481"/>
    </inertial>
    <visual>
      <geometry>
        <mesh filename="package://val_description/model/meshes/arms/aj3_right.dae"/>
      </geometry>
      <origin rpy="0.0 0.0 0.0" xyz="0.0 0.0 0.0"/>
    </visual>
    <collision>
      <geometry>
        <mesh filename="package://val_description/model/meshes/arms/aj3_right.dae"/>
      </geometry>
      <origin rpy="0 0 0" xyz="0 0 0"/>
    </collision>
  </link>
  <link name="rightElbowPitchLink">
    <inertial>
      <mass value="6.03"/>
      <origin rpy="0 0 0" xyz="-0.01 -0.13 0.019564"/>
      <inertia ixx="0.0117554" ixy="-0.00130085" ixz="-0.000727141" iyy="0.00507157" iyz="-0.00169542" izz="0.0113657"/>
    </inertial>
    <visual>
      <geometry>
        <mesh filename="package://val_description/model/meshes/arms/right_elbow_mass_sim.obj"/>
      </geometry>
      <origin rpy="0.0 0.0 0.0" xyz="0.0 0.0 0.0"/>
    </visual>
    <collision>
      <geometry>
        <mesh filename="package://val_description/model/meshes/arms/right_elbow_mass_sim.obj"/>
      </geometry>
      <origin rpy="0 0 0" xyz="0 0 0"/>
    </collision>
  </link>
  <joint name="rightShoulderPitch" type="revolute">
    <origin rpy="0.0 0.0 0.0" xyz="-0.0316 0.0 0.2984"/>
    <axis xyz="0 1 0"/>
    <parent link="torso"/>
    <child link="rightShoulderPitchLink"/>
    <limit effort="190" lower="-2.85" upper="2.0" velocity="3"/>
    <controller_gains Kd="0.0" Ki="0.0" Kp="0.0"/>
    <dynamics damping="0.1" friction="0.0"/>
  </joint>
  <gazebo reference="rightShoulderPitch">
    <provideFeedback>1</provideFeedback>
    <implicitSpringDamper>1</implicitSpringDamper>
  </gazebo>
  <joint name="rightShoulderRoll" type="revolute">
    <origin rpy="0.0 0.0 0.0" xyz="0.0 -0.2499 0.0"/>
    <axis xyz="1 0 0"/>
    <parent link="rightShoulderPitchLink"/>
    <child link="rightShoulderRollLink"/>
    <limit effort="350" lower="-1.266" upper="1.519" velocity="3.5"/>
    <controller_gains Kd="0.0" Ki="0.0" Kp="0.0"/>
    <dynamics damping="0.1" friction="0.0"/>
  </joint>
  <gazebo reference="rightShoulderRoll">
    <provideFeedback>1</provideFeedback>
    <implicitSpringDamper>1</implicitSpringDamper>
  </gazebo>
  <joint name="rightShoulderYaw" type="revolute">
    <origin rpy="0.0 0.0 0.0" xyz="0.0 0.0 0.0"/>
    <axis xyz="0 1 0"/>
    <parent link="rightShoulderRollLink"/>
    <child link="rightShoulderYawLink"/>
    <limit effort="65" lower="-3.10" upper="2.18" velocity="1.5"/>
    <controller_gains Kd="0.0" Ki="0.0" Kp="0.0"/>
    <dynamics damping="0.1" friction="0.0"/>
  </joint>
  <gazebo reference="rightShoulderYaw">
    <provideFeedback>1</provideFeedback>
    <implicitSpringDamper>1</implicitSpringDamper>
  </gazebo>
  <joint name="rightElbowPitch" type="revolute">
    <origin rpy="0.0 0.0 0.0" xyz="0.0254 -0.33 0.0"/>
    <axis xyz="0 0 1"/>
    <parent link="rightShoulderYawLink"/>
    <child link="rightElbowPitchLink"/>
    <limit effort="65" lower="-0.12" upper="2.174" velocity="3.5"/>
    <controller_gains Kd="0.0" Ki="0.0" Kp="0.0"/>
    <dynamics damping="0.1" friction="0.0"/>
  </joint>
  <gazebo reference="rightElbowPitch">
    <provideFeedback>1</provideFeedback>
    <implicitSpringDamper>1</implicitSpringDamper>
  </gazebo>
  <transmission name="rightShoulderPitchTransmission">
    <type>transmission_interface/SimpleTransmission</type>
    <joint name="rightShoulderPitch">
      <hardwareInterface>EffortJointInterface</hardwareInterface>
    </joint>
    <actuator name="rightShoulderPitch">
      <node name="/trunk/right_arm_j1"/>
      <mechanicalReduction>1</mechanicalReduction>
      <api name="robot_hardware_interface/TurbodriverAPI"/>
    </actuator>
  </transmission>
  <transmission name="rightShoulderRollTransmission">
    <type>transmission_interface/SimpleTransmission</type>
    <joint name="rightShoulderRoll">
      <hardwareInterface>EffortJointInterface</hardwareInterface>
    </joint>
    <actuator name="rightShoulderRoll">
      <node name="/right_arm/j2"/>
      <mechanicalReduction>1</mechanicalReduction>
      <api name="robot_hardware_interface/TurbodriverAPI"/>
    </actuator>
  </transmission>
  <transmission name="rightShoulderYawTransmission">
    <type>transmission_interface/SimpleTransmission</type>
    <joint name="rightShoulderYaw">
      <hardwareInterface>EffortJointInterface</hardwareInterface>
    </joint>
    <actuator name="rightShoulderYaw">
      <node name="/right_arm/j3"/>
      <mechanicalReduction>1</mechanicalReduction>
      <api name="robot_hardware_interface/TurbodriverAPI"/>
    </actuator>
  </transmission>
  <transmission name="rightElbowPitchTransmission">
    <type>transmission_interface/SimpleTransmission</type>
    <joint name="rightElbowPitch">
      <hardwareInterface>EffortJointInterface</hardwareInterface>
    </joint>
    <actuator name="rightElbowPitch">
      <node name="/right_arm/j4"/>
      <mechanicalReduction>1</mechanicalReduction>
      <api name="robot_hardware_interface/TurbodriverAPI"/>
    </actuator>
  </transmission>
  <link name="leftShoulderPitchLink">
    <inertial>
      <mass value="2.65"/>
      <origin rpy="0 0 0" xyz="-0.012 0.251 0.000000"/>
      <inertia ixx="0.013718167" ixy="0.0" ixz="0.0" iyy="0.010502833" iyz="0.0" izz="0.014806433"/>
    </inertial>
    <visual>
      <geometry>
        <mesh filename="package://val_description/model/meshes/arms/aj1_left.dae"/>
      </geometry>
      <origin rpy="0.0 0.0 0.0" xyz="0.0 0.0 0.0"/>
    </visual>
    <collision>
      <geometry>
        <mesh filename="package://val_description/model/meshes/arms/aj1_left.dae"/>
      </geometry>
      <origin rpy="0 0 0" xyz="0 0 0"/>
    </collision>
  </link>
  <link name="leftShoulderRollLink">
    <inertial>
      <mass value="3.97"/>
      <origin rpy="0 0 0" xyz="-0.008513 0.02068 -0.001088"/>
      <inertia ixx="0.014598842" ixy="-0.00066764" ixz="-3.629e-05" iyy="0.006452136" iyz="-8.283e-05" izz="0.016848319"/>
    </inertial>
    <visual>
      <geometry>
        <mesh filename="package://val_description/model/meshes/arms/aj2_left.dae"/>
      </geometry>
      <origin rpy="0.0 0.0 0.0" xyz="0.0 0.0 0.0"/>
    </visual>
    <collision>
      <geometry>
        <mesh filename="package://val_description/model/meshes/arms/aj2_left.dae"/>
      </geometry>
      <origin rpy="0 0 0" xyz="0 0 0"/>
    </collision>
  </link>
  <link name="leftShoulderYawLink">
    <inertial>
      <mass value="3.085"/>
      <origin rpy="0 0 0" xyz="-0.004304 0.209832 0.007295"/>
      <inertia ixx="0.039355177" ixy="-0.007827077" ixz="-0.000753947" iyy="0.004905765" iyz="0.002723873" izz="0.041879481"/>
    </inertial>
    <visual>
      <geometry>
        <mesh filename="package://val_description/model/meshes/arms/aj3_left.dae"/>
      </geometry>
      <origin rpy="0.0 0.0 0.0" xyz="0.0 0.0 0.0"/>
    </visual>
    <collision>
      <geometry>
        <mesh filename="package://val_description/model/meshes/arms/aj3_left.dae"/>
      </geometry>
      <origin rpy="0 0 0" xyz="0 0 0"/>
    </collision>
  </link>
  <link name="leftElbowPitchLink">
    <inertial>
      <mass value="6.03"/>
      <origin rpy="0 0 0" xyz="-0.01 0.13 0.019564"/>
      <inertia ixx="0.0117554" ixy="0.00130085" ixz="-0.000727141" iyy="0.00507157" iyz="0.00169542" izz="0.0113657"/>
    </inertial>
    <visual>
      <geometry>
        <mesh filename="package://val_description/model/meshes/arms/left_elbow_mass_sim.obj"/>
      </geometry>
      <origin rpy="0.0 0.0 0.0" xyz="0.0 0.0 0.0"/>
    </visual>
    <collision>
      <geometry>
        <mesh filename="package://val_description/model/meshes/arms/left_elbow_mass_sim.obj"/>
      </geometry>
      <origin rpy="0 0 0" xyz="0 0 0"/>
    </collision>
  </link>
  <joint name="leftShoulderPitch" type="revolute">
    <origin rpy="0.0 0.0 0.0" xyz="-0.0316 0.0 0.2984"/>
    <axis xyz="0 1 0"/>
    <parent link="torso"/>
    <child link="leftShoulderPitchLink"/>
    <limit effort="190" lower="-2.85" upper="2.00" velocity="3"/>
    <controller_gains Kd="0.0" Ki="0.0" Kp="0.0"/>
    <dynamics damping="0.1" friction="0.0"/>
  </joint>
  <gazebo reference="leftShoulderPitch">
    <provideFeedback>1</provideFeedback>
    <implicitSpringDamper>1</implicitSpringDamper>
  </gazebo>
  <joint name="leftShoulderRoll" type="revolute">
    <origin rpy="0.0 0.0 0.0" xyz="0.0 0.2499 0.0"/>
    <axis xyz="1 0 0"/>
    <parent link="leftShoulderPitchLink"/>
    <child link="leftShoulderRollLink"/>
    <limit effort="350" lower="-1.519" upper="1.266" velocity="3.5"/>
    <controller_gains Kd="0.0" Ki="0.0" Kp="0.0"/>
    <dynamics damping="0.1" friction="0.0"/>
  </joint>
  <gazebo reference="leftShoulderRoll">
    <provideFeedback>1</provideFeedback>
    <implicitSpringDamper>1</implicitSpringDamper>
  </gazebo>
  <joint name="leftShoulderYaw" type="revolute">
    <origin rpy="0.0 0.0 0.0" xyz="0.0 0.0 0.0"/>
    <axis xyz="0 1 0"/>
    <parent link="leftShoulderRollLink"/>
    <child link="leftShoulderYawLink"/>
    <limit effort="65" lower="-3.10" upper="2.18" velocity="1.5"/>
    <controller_gains Kd="0.0" Ki="0.0" Kp="0.0"/>
    <dynamics damping="0.1" friction="0.0"/>
  </joint>
  <gazebo reference="leftShoulderYaw">
    <provideFeedback>1</provideFeedback>
    <implicitSpringDamper>1</implicitSpringDamper>
  </gazebo>
  <joint name="leftElbowPitch" type="revolute">
    <origin rpy="0.0 0.0 0.0" xyz="0.0254 0.33 0.0"/>
    <axis xyz="0 0 1"/>
    <parent link="leftShoulderYawLink"/>
    <child link="leftElbowPitchLink"/>
    <limit effort="65" lower="-2.174" upper="0.12" velocity="3.5"/>
    <controller_gains Kd="0.0" Ki="0.0" Kp="0.0"/>
    <dynamics damping="0.1" friction="0.0"/>
  </joint>
  <gazebo reference="leftElbowPitch">
    <provideFeedback>1</provideFeedback>
    <implicitSpringDamper>1</implicitSpringDamper>
  </gazebo>
  <transmission name="leftShoulderPitchTransmission">
    <type>transmission_interface/SimpleTransmission</type>
    <joint name="leftShoulderPitch">
      <hardwareInterface>EffortJointInterface</hardwareInterface>
    </joint>
    <actuator name="leftShoulderPitch">
      <node name="/trunk/left_arm_j1"/>
      <mechanicalReduction>1</mechanicalReduction>
      <api name="robot_hardware_interface/TurbodriverAPI"/>
    </actuator>
  </transmission>
  <transmission name="leftShoulderRollTransmission">
    <type>transmission_interface/SimpleTransmission</type>
    <joint name="leftShoulderRoll">
      <hardwareInterface>EffortJointInterface</hardwareInterface>
    </joint>
    <actuator name="leftShoulderRoll">
      <node name="/left_arm/j2"/>
      <mechanicalReduction>1</mechanicalReduction>
      <api name="robot_hardware_interface/TurbodriverAPI"/>
    </actuator>
  </transmission>
  <transmission name="leftShoulderYawTransmission">
    <type>transmission_interface/SimpleTransmission</type>
    <joint name="leftShoulderYaw">
      <hardwareInterface>EffortJointInterface</hardwareInterface>
    </joint>
    <actuator name="leftShoulderYaw">
      <node name="/left_arm/j3"/>
      <mechanicalReduction>1</mechanicalReduction>
      <api name="robot_hardware_interface/TurbodriverAPI"/>
    </actuator>
  </transmission>
  <transmission name="leftElbowPitchTransmission">
    <type>transmission_interface/SimpleTransmission</type>
    <joint name="leftElbowPitch">
      <hardwareInterface>EffortJointInterface</hardwareInterface>
    </joint>
    <actuator name="leftElbowPitch">
      <node name="/left_arm/j4"/>
      <mechanicalReduction>1</mechanicalReduction>
      <api name="robot_hardware_interface/TurbodriverAPI"/>
    </actuator>
  </transmission>
</robot>
